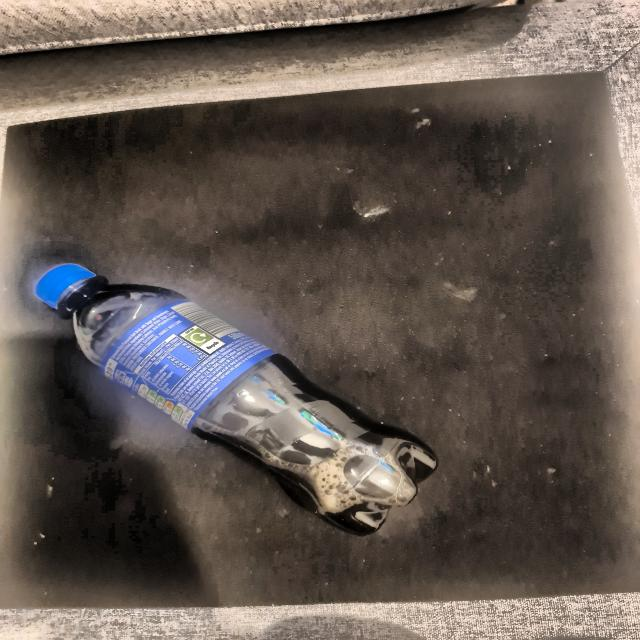pepsi-bottle: (36, 264, 427, 536)
